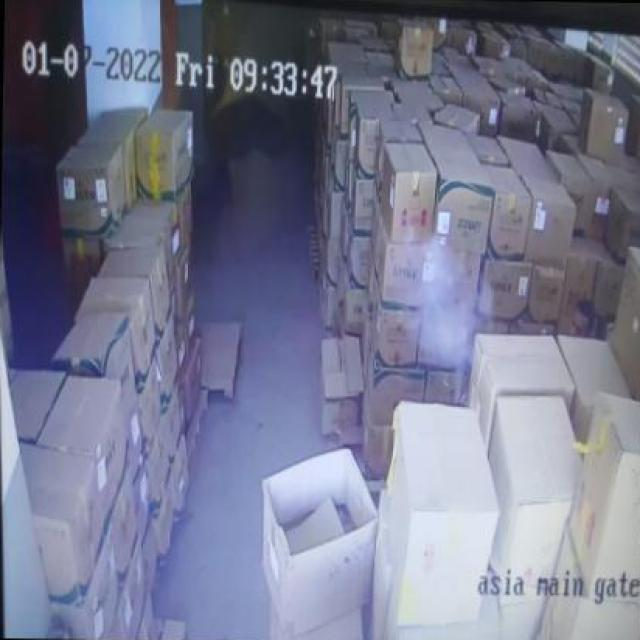fire: (400, 227, 493, 390)
